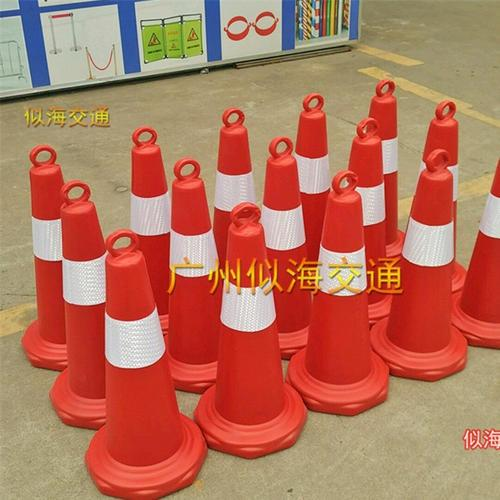cone_barrel: (206, 197, 296, 453), (94, 234, 186, 477), (298, 172, 384, 409), (384, 156, 466, 379), (164, 161, 224, 390), (55, 194, 111, 424), (21, 142, 76, 366), (463, 151, 499, 347)
